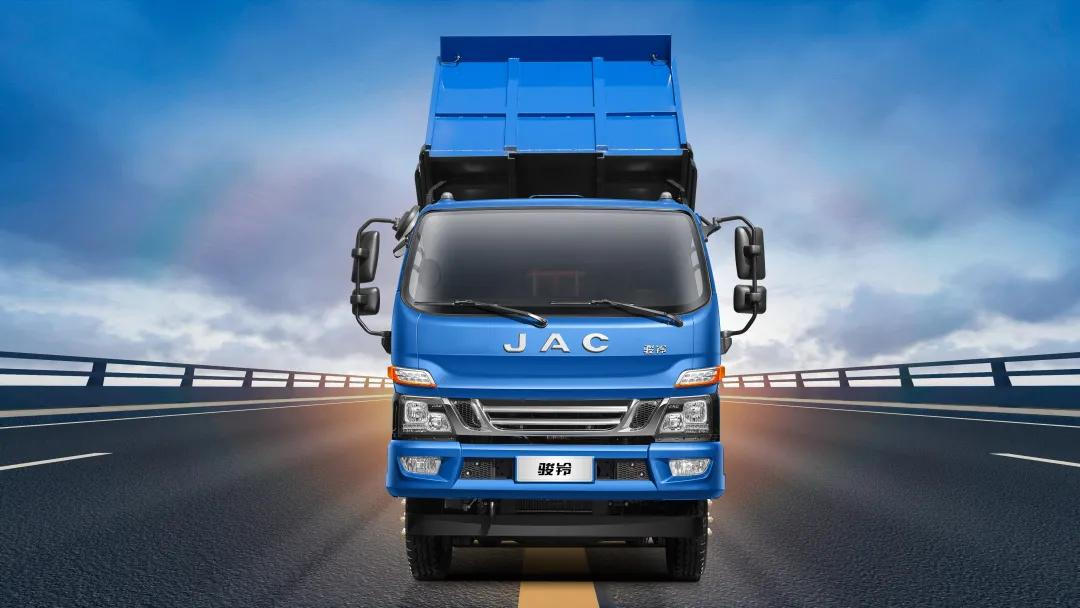truck: (348, 17, 774, 588)
